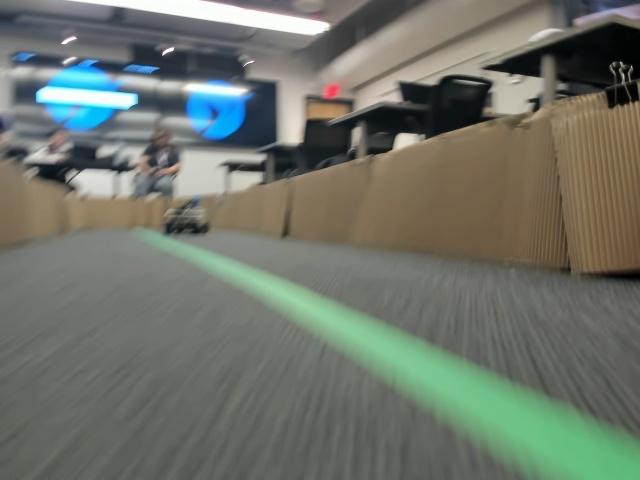Car: (163, 199, 208, 232)
